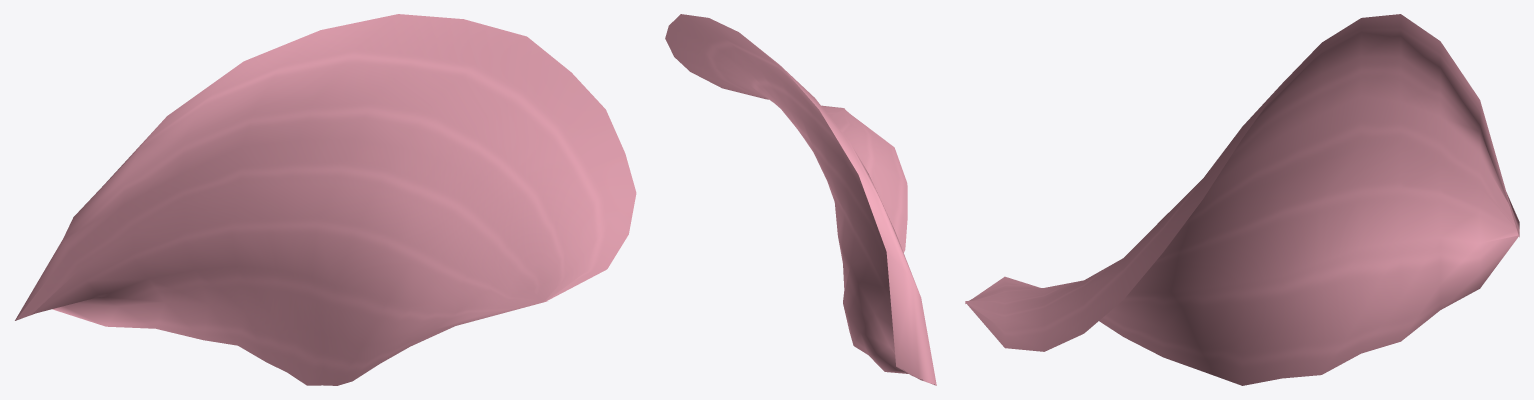
Rendered from petal_16_twisted.glb.
3 renders of one model, left to right at view 1: azimuth 30°, elevation 25°; view 2: azimuth 150°, elevation 25°; view 3: azimuth 270°, elevation 25°, orthographic. The views are drawn at different scales.
Visible parts, largest first — view 1: petal_16_twisted; view 2: petal_16_twisted; view 3: petal_16_twisted.
Boxes of the visible parts, <box> form: petal_16_twisted: <box>15,14,636,385</box>; petal_16_twisted: <box>665,14,936,385</box>; petal_16_twisted: <box>965,14,1519,385</box>.
Size of the model in its own units: 0.1025 by 0.0681 by 0.0812.
Materials: 1 (1 with a texture image).
